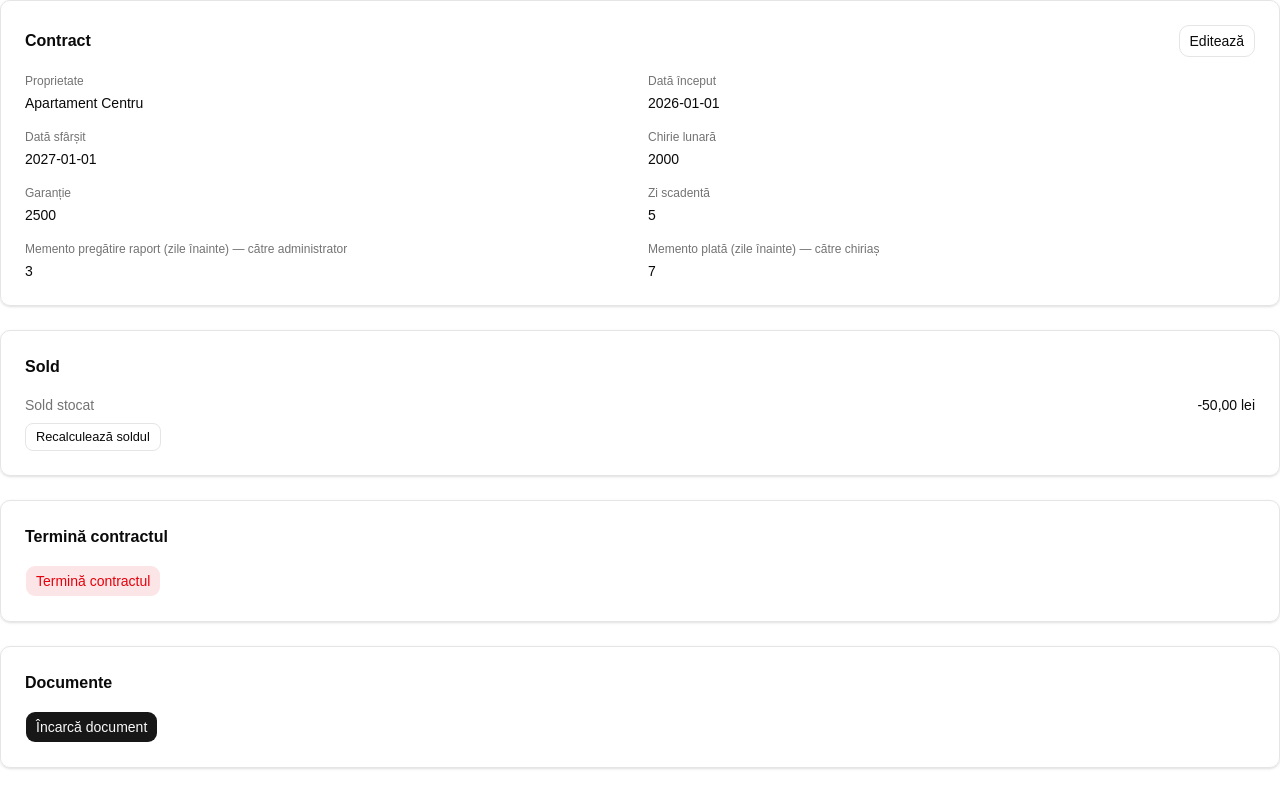
TenancyTab — End Contract (FR-CON-03/05) › states a tenant credit plainly when currentBalance is negative (FR-CON-04/FR-DASH-14)
Click the button "Termină contractul" at (93,581), box [25,565,161,597]
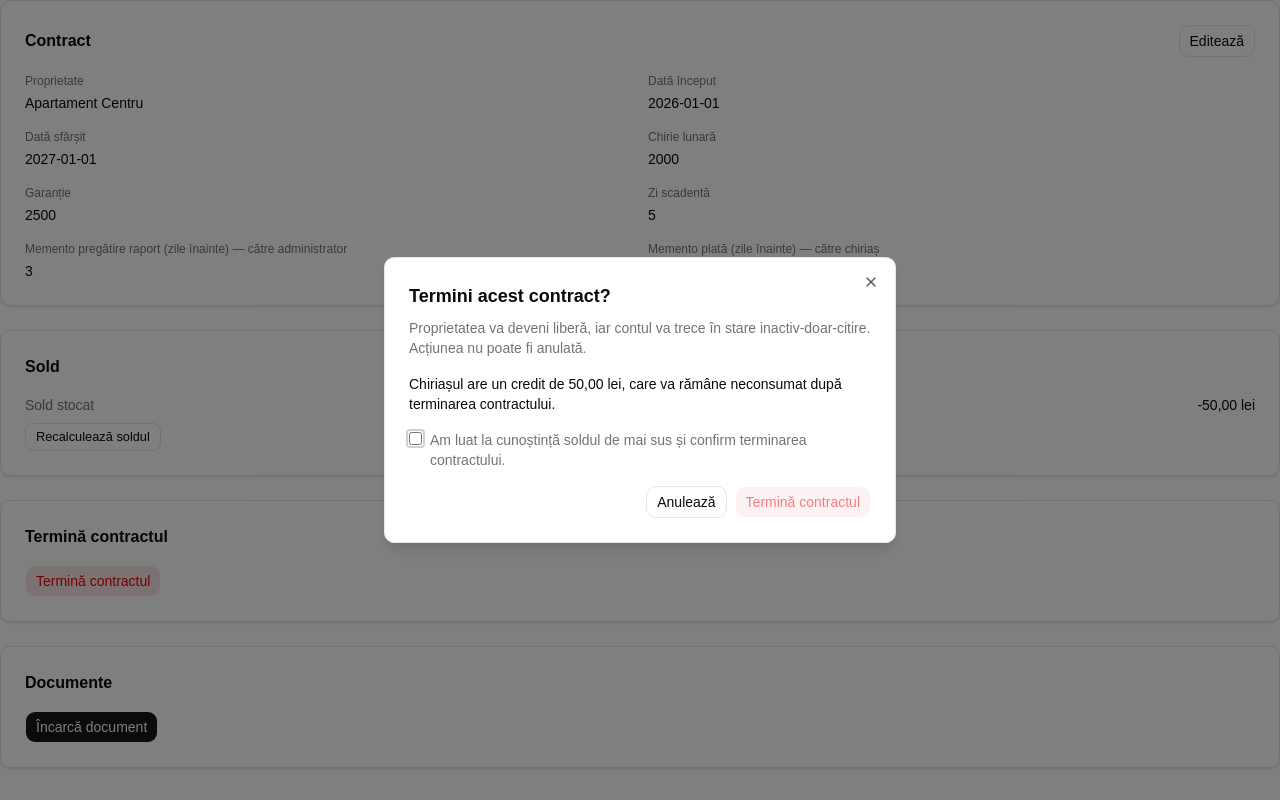
expect the text "are un credit de 50,00 lei" is shown: met, box [409,376,842,412]
